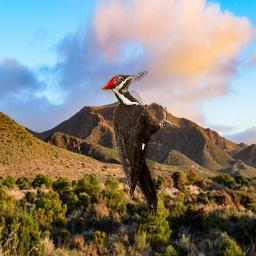Woodpecker: (100, 71, 177, 216)
